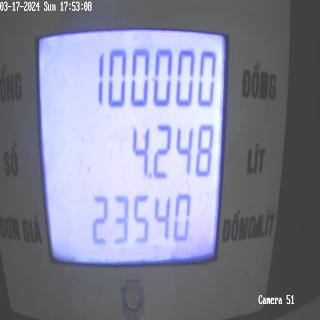screen: (32, 17, 234, 285)
